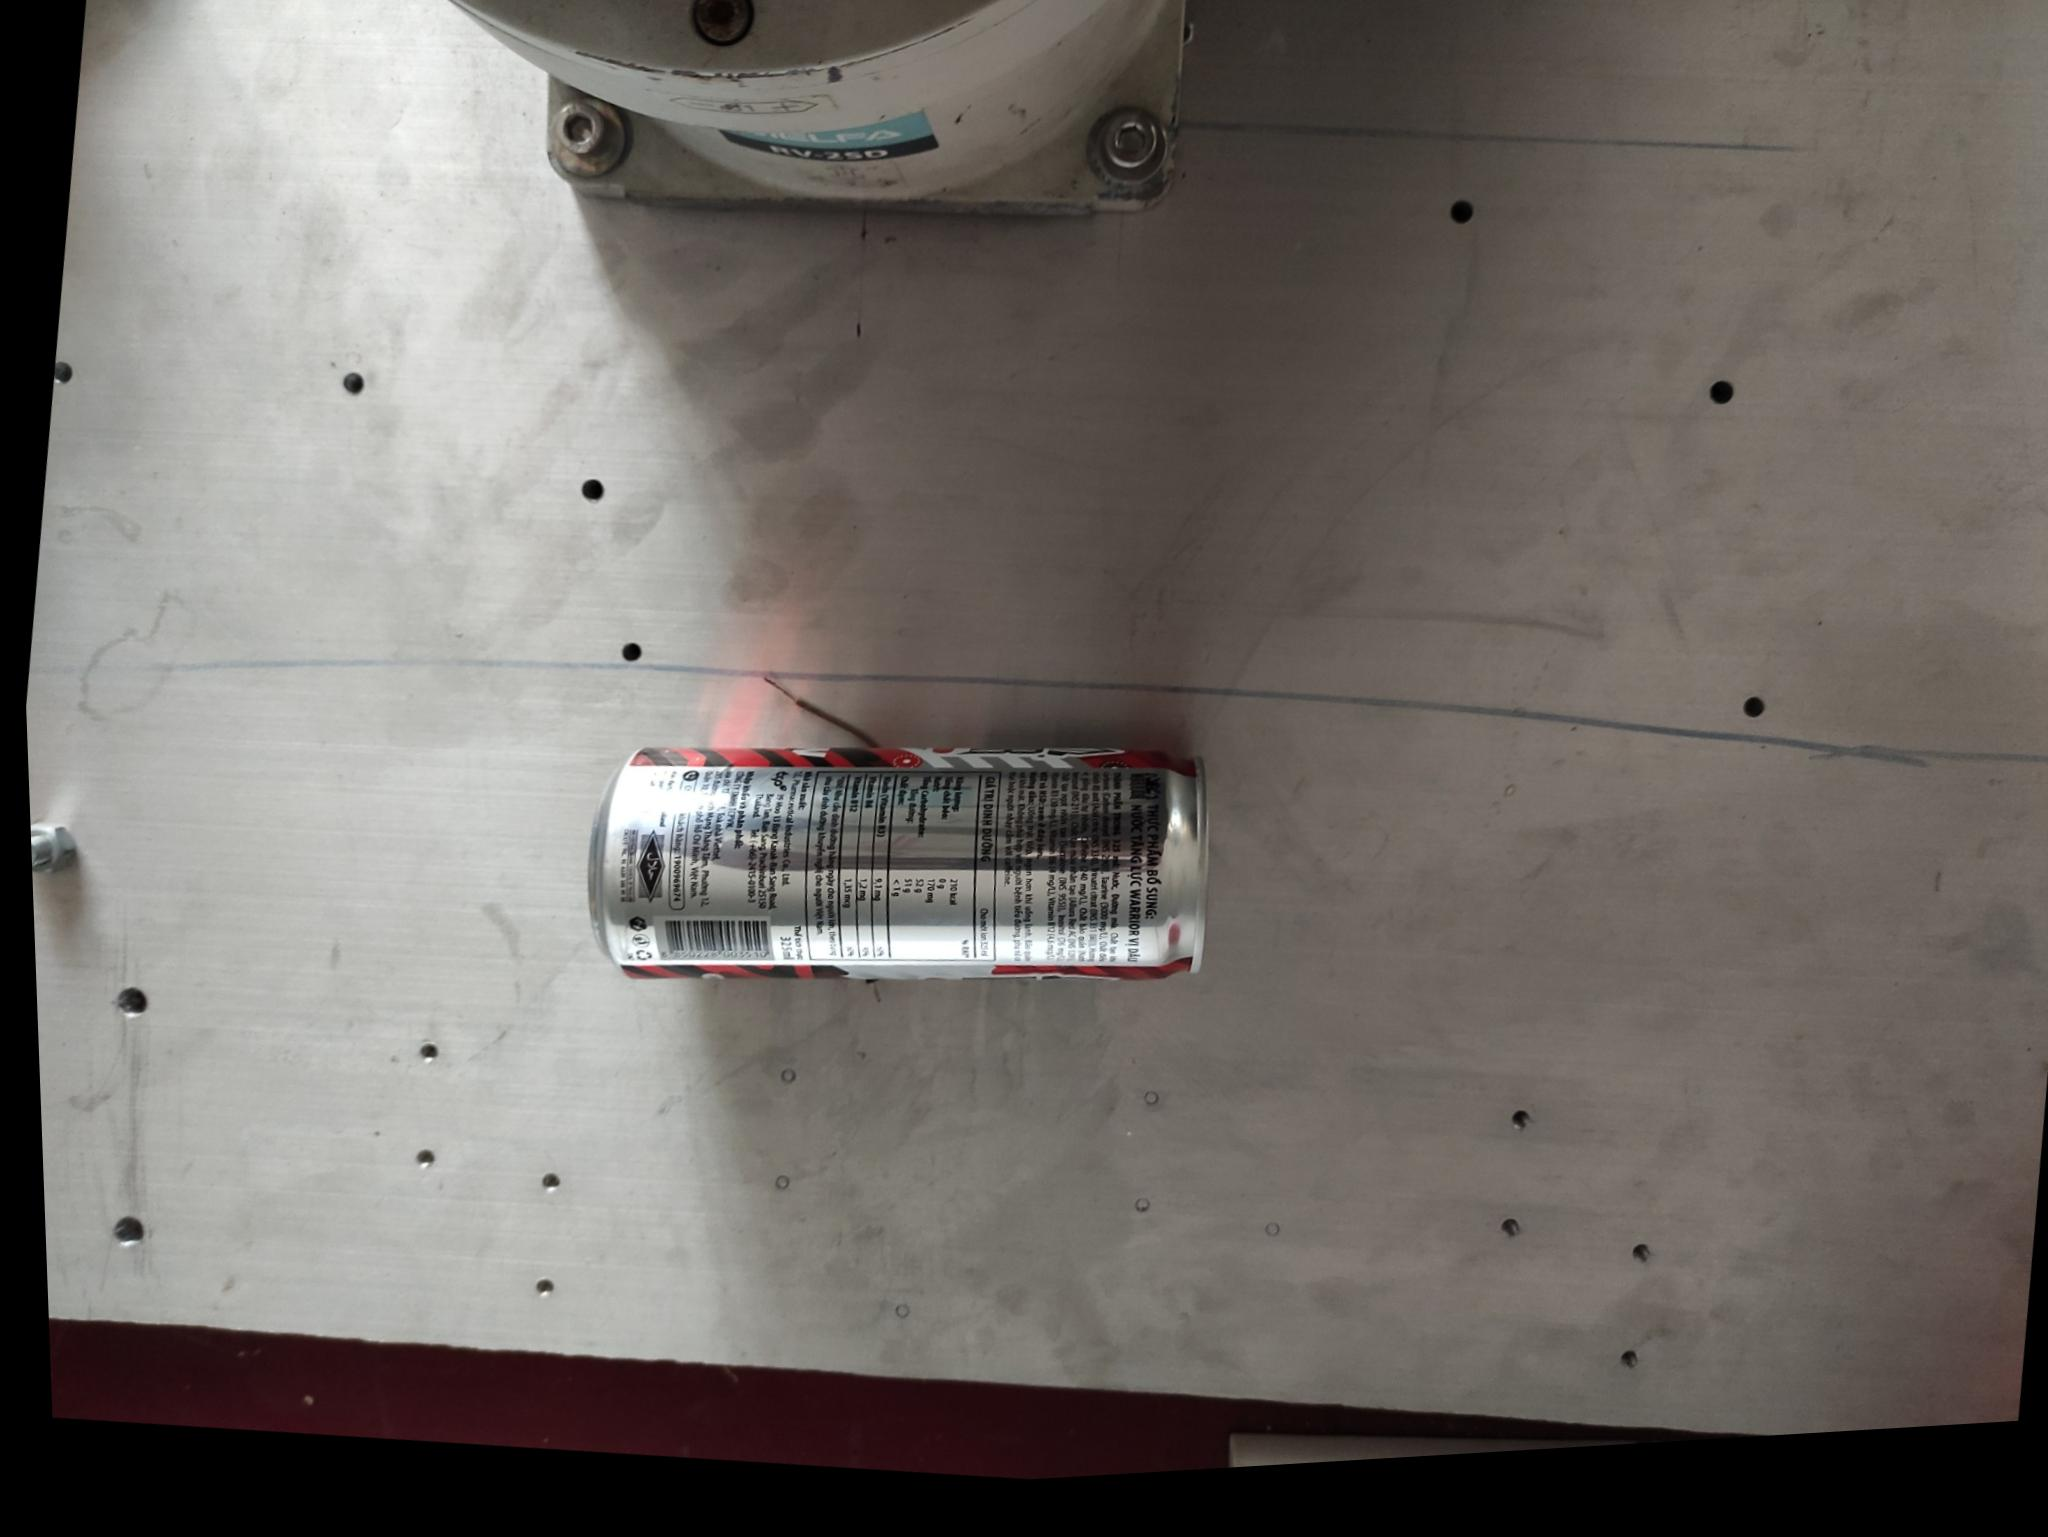metal: (462, 0, 1185, 211), (589, 744, 1206, 978)
